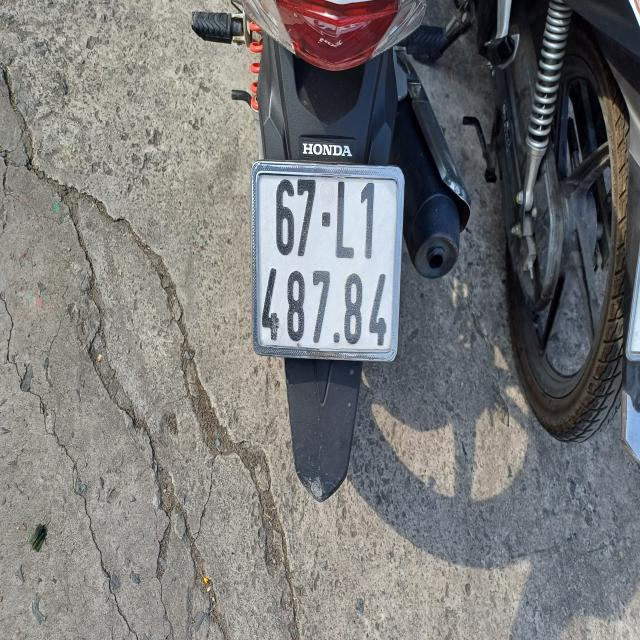1: (358, 181, 376, 262)
4: (263, 264, 281, 344), (370, 278, 390, 343)
6: (269, 172, 295, 264)
7: (306, 271, 333, 355), (296, 173, 314, 259)
8: (282, 266, 308, 342), (344, 271, 363, 343)
L: (331, 178, 357, 263)
